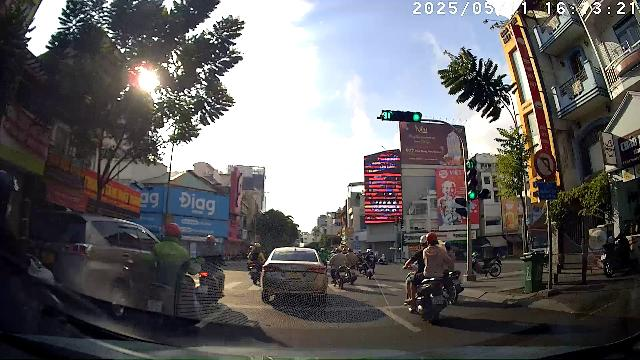123a-cam-re-trai: (533, 148, 557, 180)
